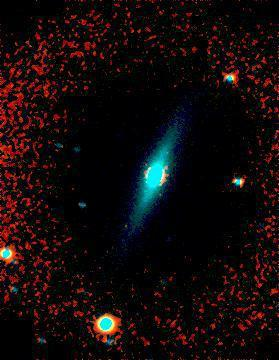star: (111, 211, 141, 241)
